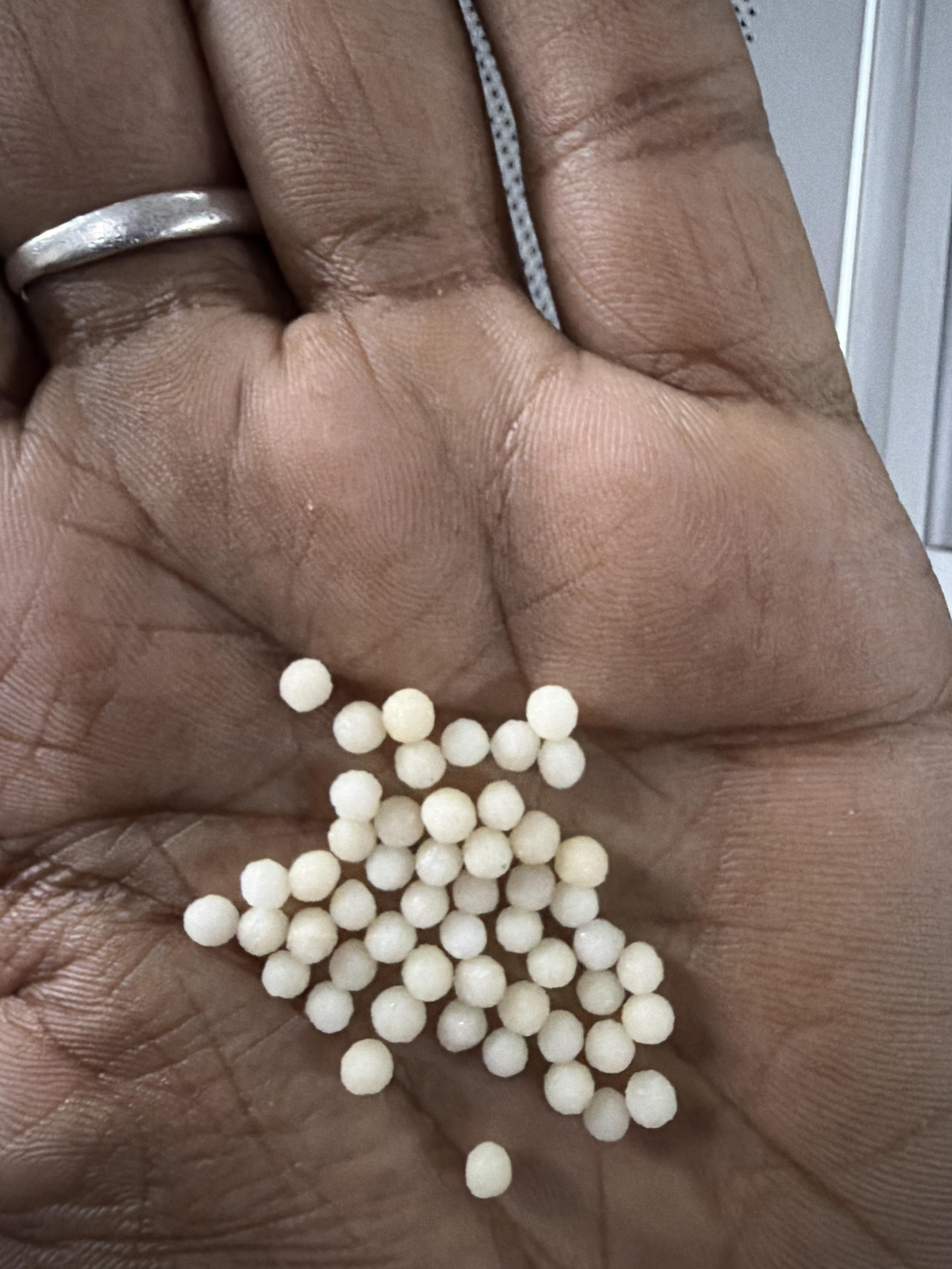pill: (371, 985, 426, 1043), (401, 944, 454, 1002), (421, 788, 476, 843), (625, 1070, 677, 1128), (341, 1038, 393, 1095), (286, 907, 337, 965), (279, 657, 332, 712), (382, 688, 435, 743), (498, 980, 550, 1036), (183, 895, 239, 947), (332, 701, 386, 754), (526, 685, 578, 740), (510, 809, 561, 865), (364, 911, 417, 964), (555, 835, 608, 888), (454, 954, 506, 1008), (289, 849, 341, 902), (329, 769, 382, 821), (544, 1060, 594, 1115), (585, 1018, 635, 1073), (573, 918, 625, 970), (621, 993, 674, 1044), (462, 826, 512, 880), (304, 981, 354, 1034), (465, 1142, 512, 1198), (490, 720, 540, 772), (437, 1000, 487, 1052), (374, 795, 423, 848), (329, 938, 377, 992), (583, 1087, 630, 1142), (527, 938, 577, 989), (476, 780, 525, 832), (394, 740, 446, 789), (616, 942, 664, 995), (537, 1009, 584, 1063), (237, 907, 288, 956), (537, 737, 585, 789), (240, 859, 290, 908), (329, 879, 376, 931), (439, 910, 487, 960), (440, 719, 490, 767), (482, 1026, 528, 1078), (495, 906, 543, 954), (506, 864, 555, 911), (365, 844, 414, 891), (400, 881, 449, 928), (549, 882, 599, 928), (262, 950, 309, 998), (576, 970, 625, 1016), (416, 838, 462, 886), (328, 818, 376, 862), (453, 871, 498, 915)
